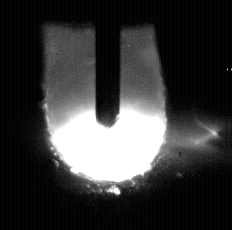arame: (96, 0, 122, 128)
poca: (51, 0, 165, 230)
